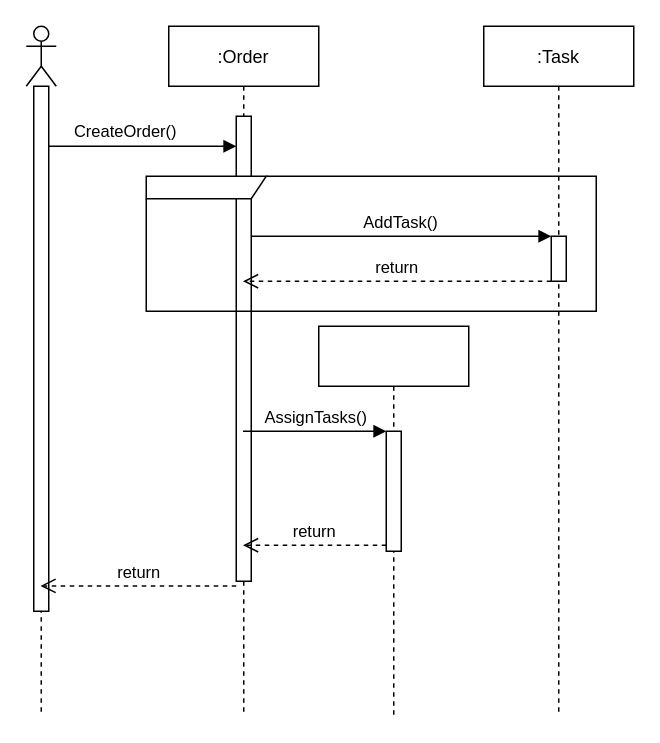
The diagram is 660 pixels wide and 743 high, and some of its shapes have lost their labels. The shapes that lost their labels are listed below. From the top down, each one's centre as x and y in pixels, then its label:
the point at 370,243: for all tasks
the point at 393,520: :Technician
